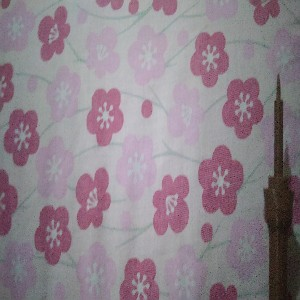solder: (262, 71, 296, 300)
